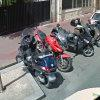Motorcycle: (13, 25, 81, 90)
